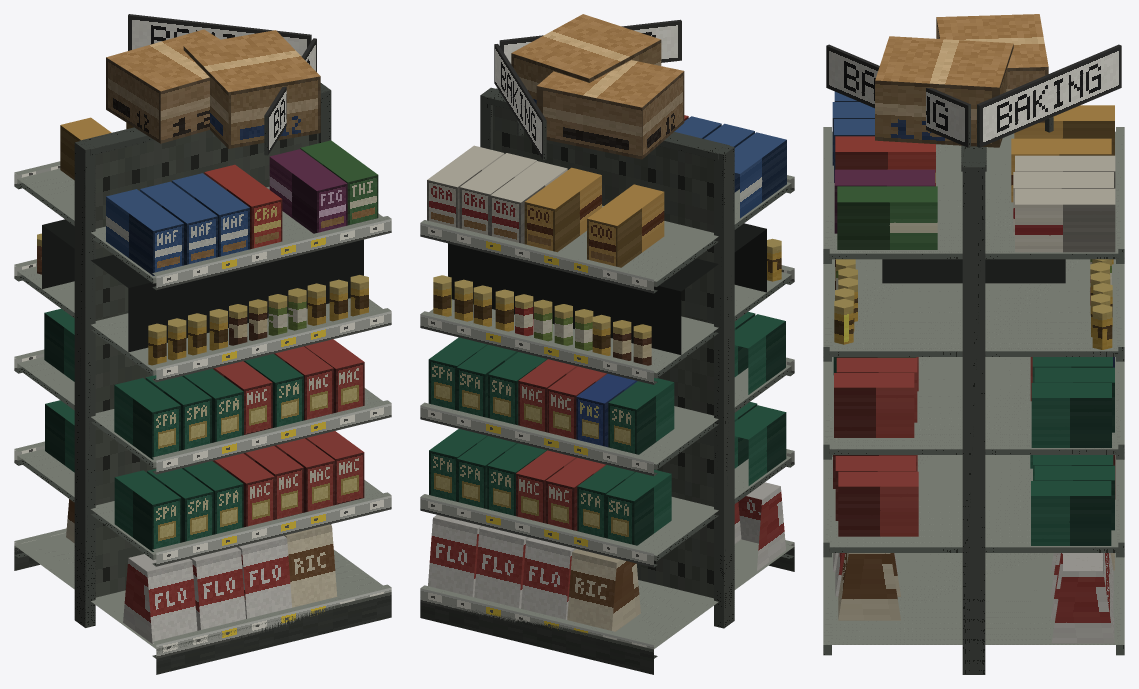
File: gondola_baking.glb
3 views of the same model, side by side, from view 1: azimuth 30°, elevation 25°; view 2: azimuth 150°, elevation 25°; view 3: azimuth 270°, elevation 25° (orthographic). The views are drawn at different scales.
Visible parts, largest first — view 1: GondolaBaking; view 2: GondolaBaking; view 3: GondolaBaking.
Part boxes in pixels (box(x1,y1,x2,y2)): GondolaBaking: box(14, 14, 391, 674); GondolaBaking: box(420, 14, 794, 674); GondolaBaking: box(823, 14, 1124, 674).
Size of what is drawn, in the model's own units: 1.2 by 2.49 by 1.2.
1 material, 1 textured.
